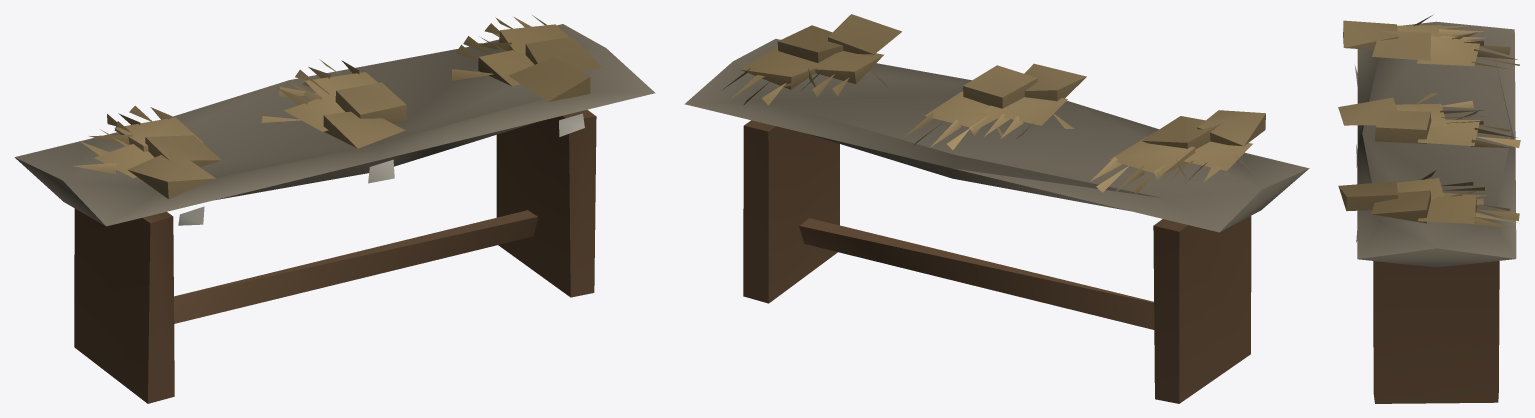
The model's file is glove_bench_c_lod2.glb.
3 views of the same model, side by side, from view 1: azimuth 30°, elevation 25°; view 2: azimuth 150°, elevation 25°; view 3: azimuth 270°, elevation 25° (orthographic). The views are drawn at different scales.
Parts seen in each view (by area): view 1: Surface.001; view 2: Surface.001; view 3: Surface.001.
Part boxes in pixels (bbox=[...]): Surface.001: bbox=[14, 15, 655, 403]; Surface.001: bbox=[684, 14, 1309, 403]; Surface.001: bbox=[1338, 14, 1520, 403].
Bounding box in the file's own units: 1.3 × 0.5312 × 0.4401.
